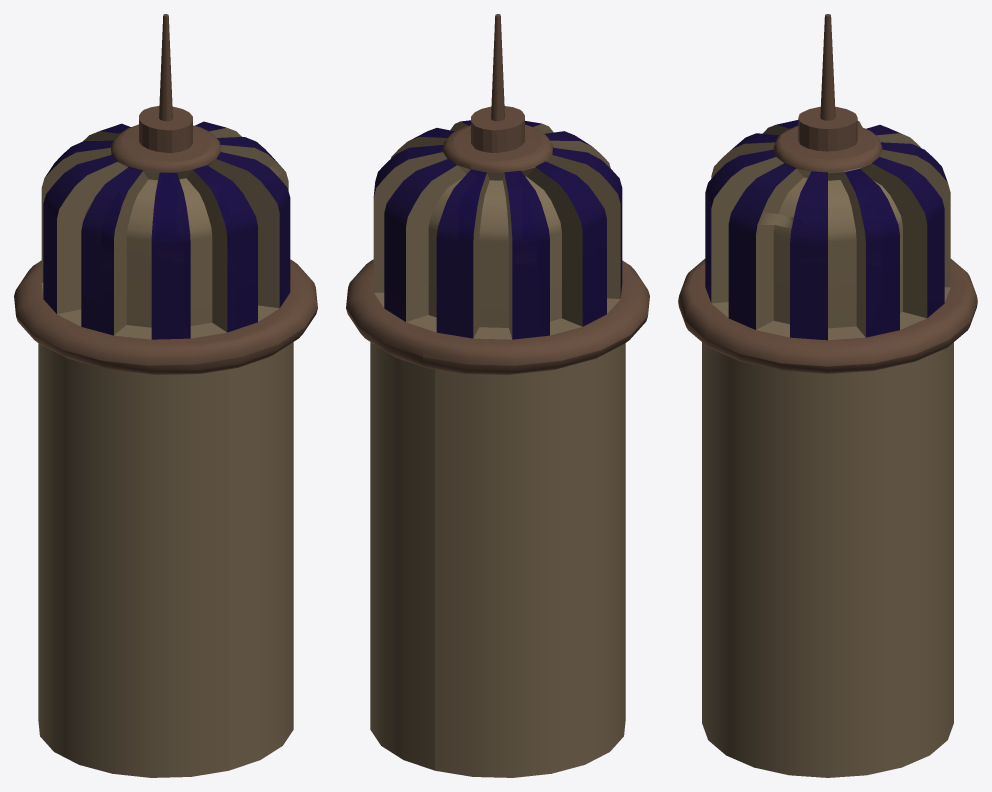
File: Obsorb.fbx
3 renders of one model, left to right at view 1: azimuth 30°, elevation 25°; view 2: azimuth 150°, elevation 25°; view 3: azimuth 270°, elevation 25°, orthographic.
Visible parts, largest first — view 1: ShortCylinder; view 2: ShortCylinder; view 3: ShortCylinder.
Part boxes in pixels (x1,y1,x2,y2): ShortCylinder: [14, 14, 317, 777]; ShortCylinder: [346, 14, 649, 777]; ShortCylinder: [678, 14, 977, 777].
Bounding box in the file's own units: 11.09 × 28.2 × 10.82.
